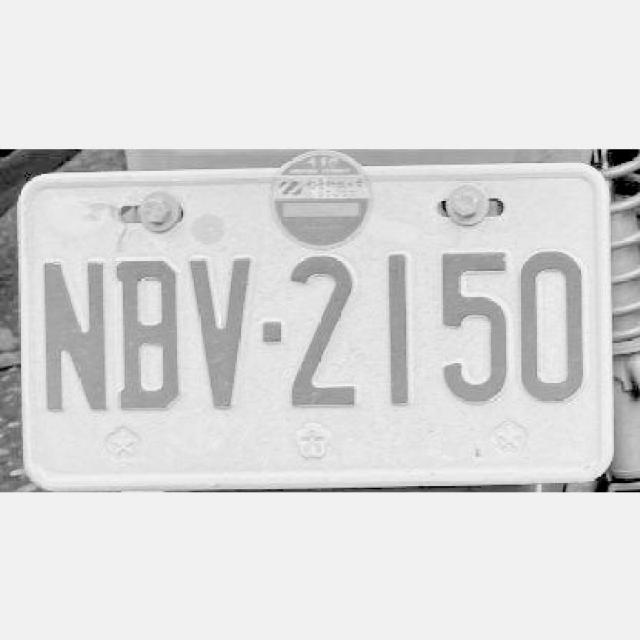-: (260, 312, 285, 343)
0: (516, 249, 586, 405)
1: (388, 249, 414, 406)
2: (284, 251, 362, 415)
5: (440, 246, 512, 409)
B: (110, 257, 182, 411)
N: (35, 254, 111, 414)
V: (190, 252, 256, 408)
